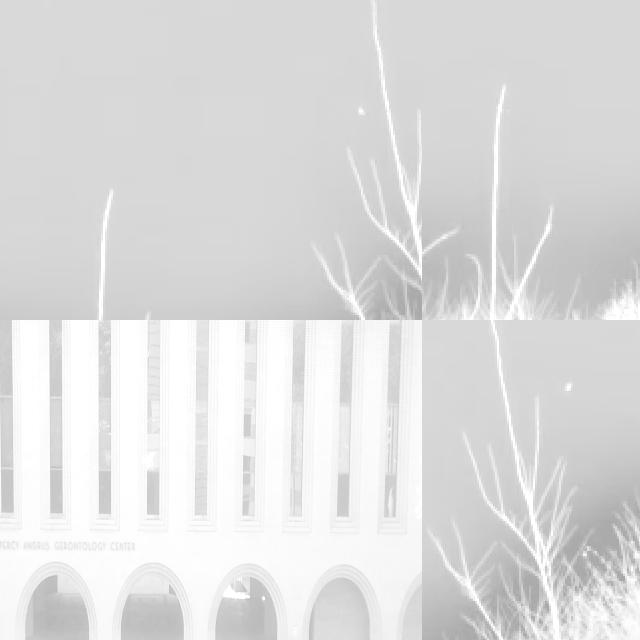0: (554, 375, 580, 405), (348, 102, 370, 126)
drone: (139, 446, 159, 476)
